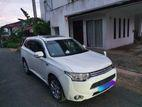car: (18, 33, 120, 105)
